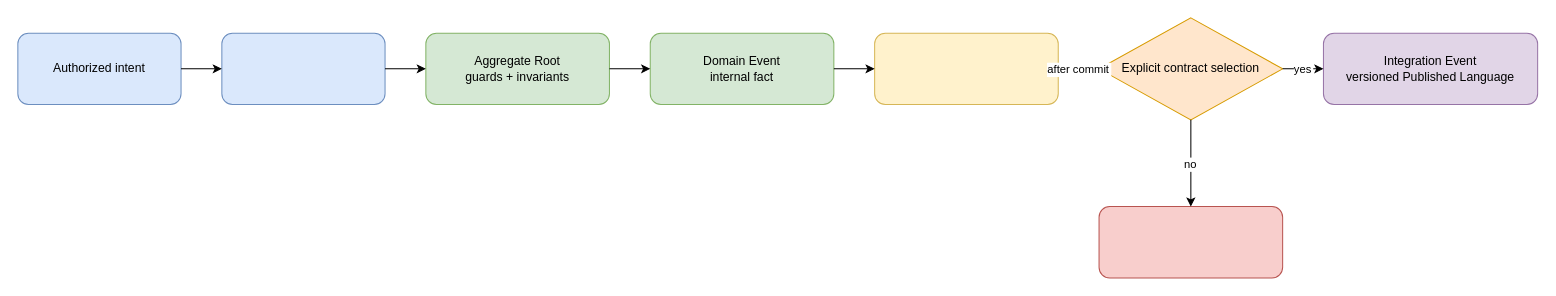
The diagram is 1556 pixels wide and 296 high, and some of its shapes have lost their labels. The centre of each missing label's shape, as x and y in pixels:
Command: (303,68)
Confirmed commit one Aggregate: (966,68)
No public contract event remains internal: (1190,242)
